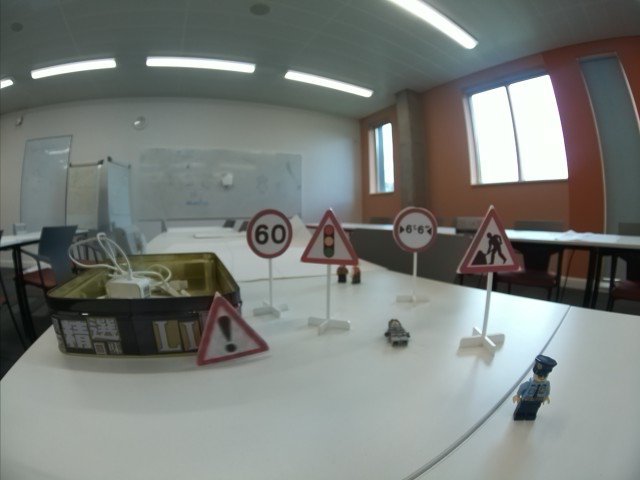60mph: (246, 209, 293, 259)
6ft6: (391, 208, 439, 252)
Lego Man: (515, 354, 559, 424), (384, 319, 413, 348), (335, 264, 349, 284), (351, 264, 363, 285)
Roadworks: (458, 208, 522, 273)
Traffic lights: (300, 208, 362, 264)
Warning: (196, 292, 271, 365)
